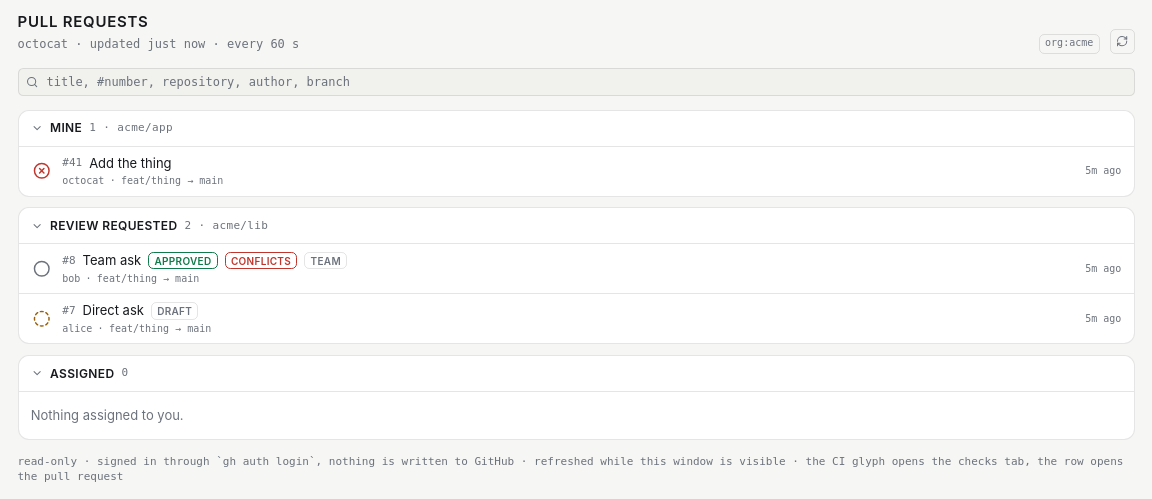
Test: Github › opens a folded section while a search matches inside it
The width and height of the screenshot is (1152, 499).
Expected: the text "Add the thing" is shown, [89, 154, 172, 172]
Click the button "Review requested 2 · acme/lib". click: (114,226)
box: [18, 208, 1134, 243]
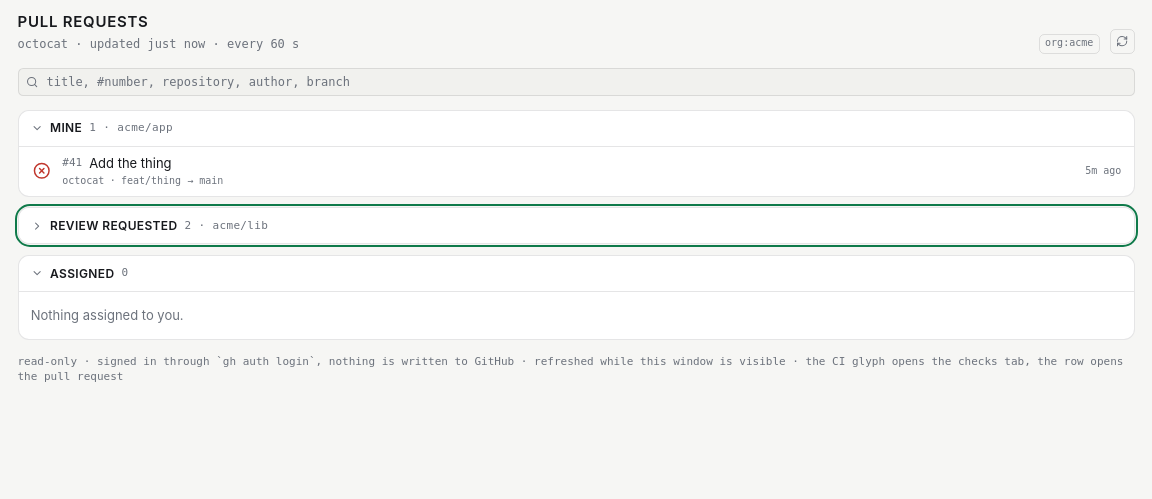
Now the button "Team ask" is gone
Type "team ask" into the search field named "Search pull requests". click: (576,82)
box: [18, 68, 1134, 96]
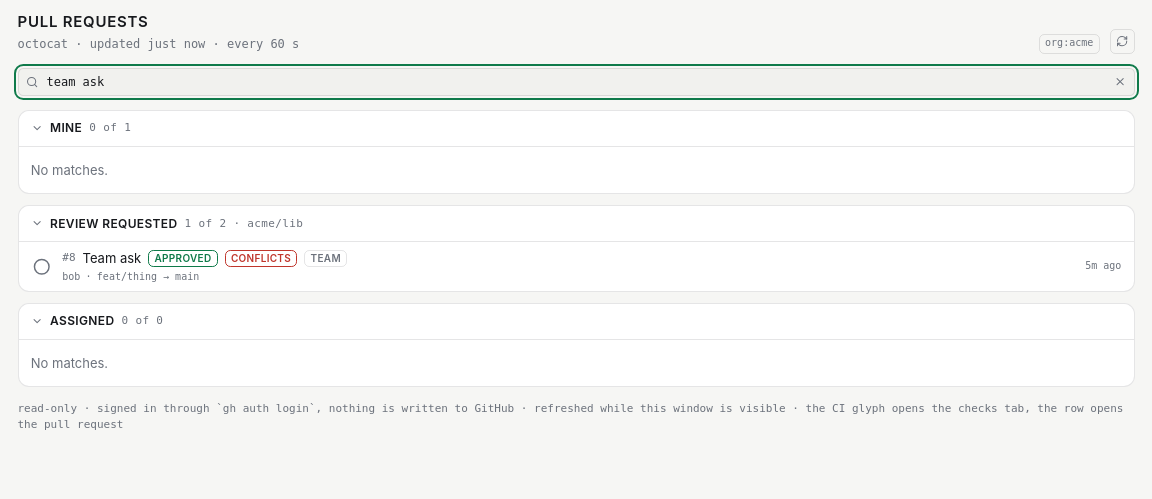
Now the button "Review requested 1 of 2 · acme/lib" is expanded, box [18, 206, 1134, 241]
Now the text "Team ask" is shown, box [82, 249, 141, 268]
Clear the search field named "Search pull requests". click: (576,82)
box: [18, 68, 1134, 96]
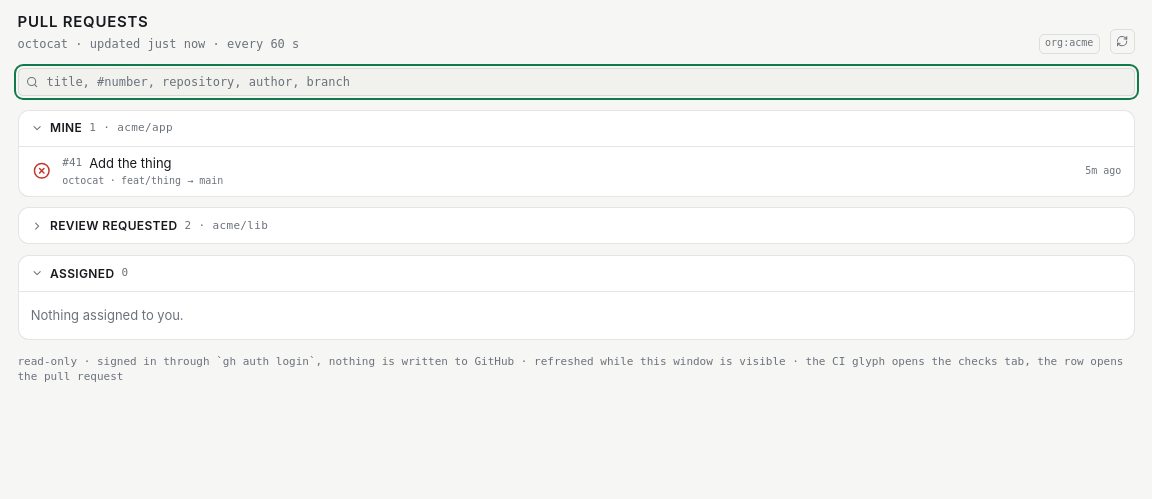
Now the button "Review requested 2 · acme/lib" is collapsed, box [18, 208, 1134, 243]
Now the button "Team ask" is gone
